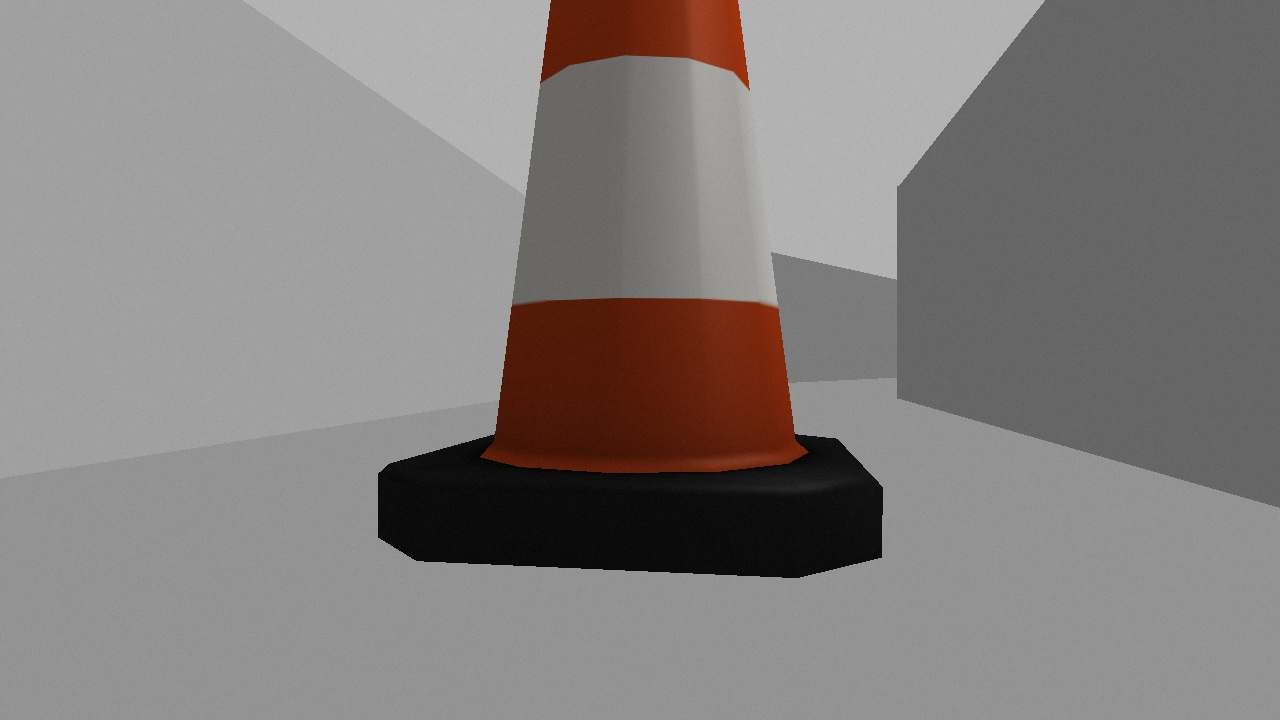barricade: (374, 1, 883, 580)
